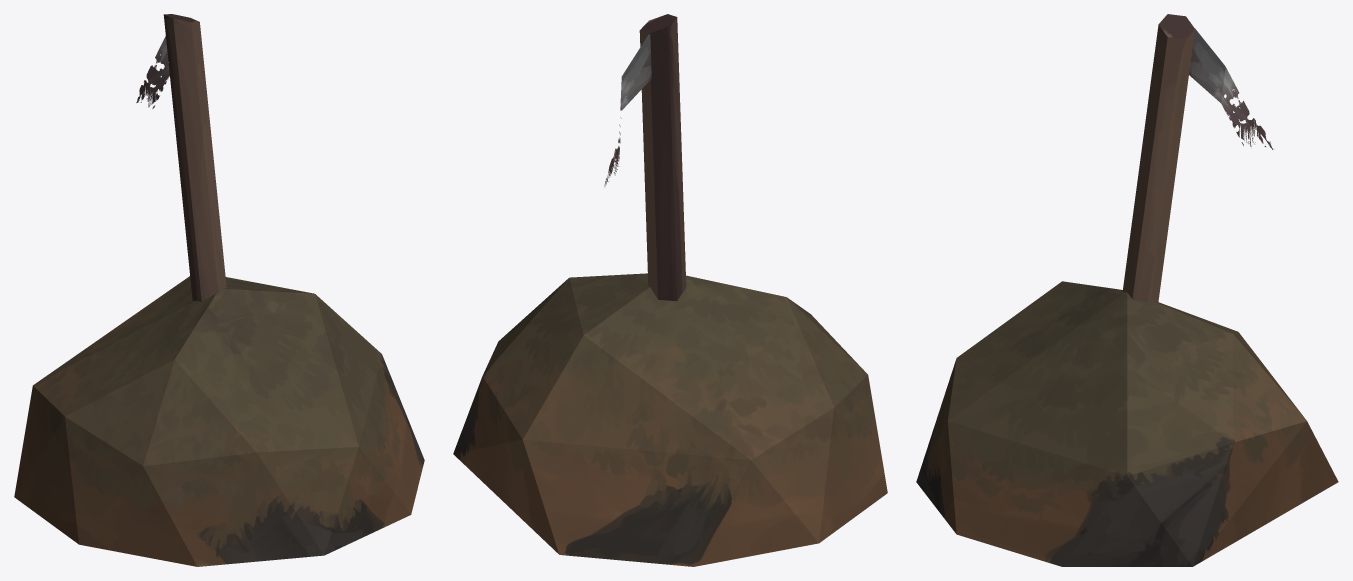
Rendered from Grave_shipwreck03.fbx.
The picture shows the model from 3 angles, left to right: view 1: azimuth 30°, elevation 25°; view 2: azimuth 150°, elevation 25°; view 3: azimuth 270°, elevation 25°; orthographic projection. The views are drawn at different scales.
Parts seen in each view (by area): view 1: Grave_shipwreck03; view 2: Grave_shipwreck03; view 3: Grave_shipwreck03.
Boxes of the visible parts, left/top/right/bottom form: Grave_shipwreck03: left=14, top=14, right=424, bottom=566; Grave_shipwreck03: left=453, top=14, right=887, bottom=566; Grave_shipwreck03: left=916, top=14, right=1338, bottom=566.
Bounding box in the file's own units: 0.586 × 0.7324 × 0.6162.
Materials: 2 (2 with a texture image).
